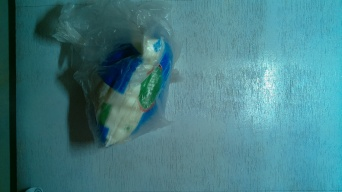m: (72, 25, 185, 142)
